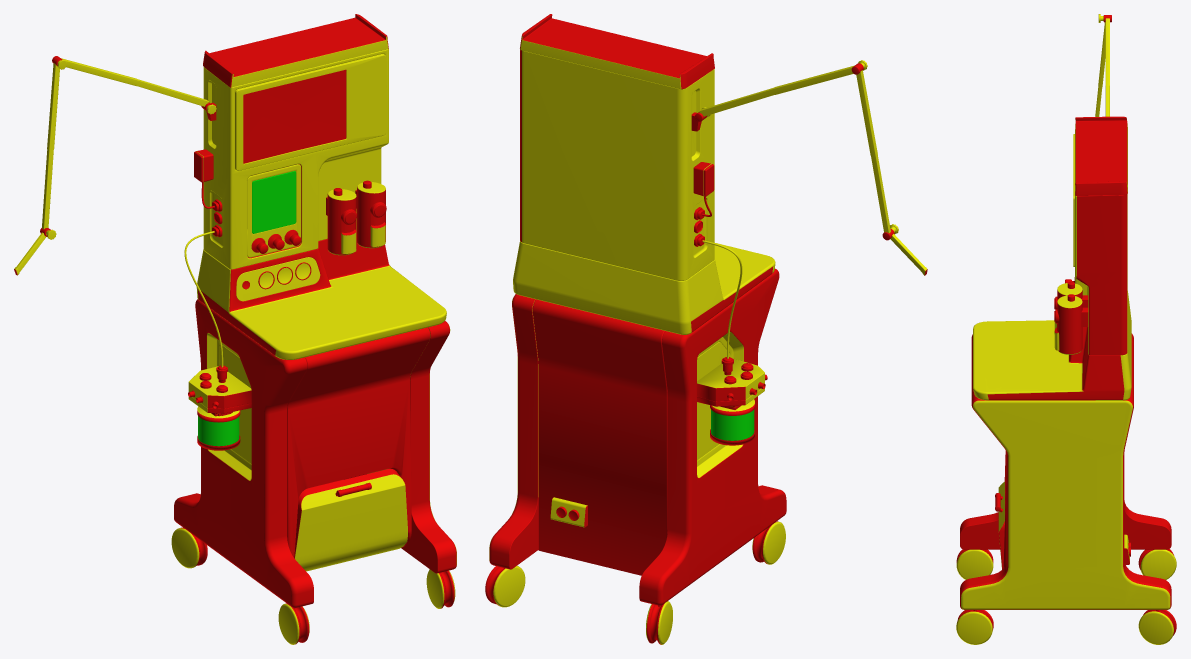
The model's file is Equipment_21.fbx.
The picture shows the model from 3 angles, left to right: view 1: azimuth 30°, elevation 25°; view 2: azimuth 150°, elevation 25°; view 3: azimuth 270°, elevation 25°; orthographic projection. The views are drawn at different scales.
Parts seen in each view (by area): view 1: polySurface1; view 2: polySurface1; view 3: polySurface1.
Part boxes in pixels (x1=…): polySurface1: x1=14, y1=14, x2=456, y2=644; polySurface1: x1=485, y1=14, x2=927, y2=644; polySurface1: x1=956, y1=14, x2=1176, y2=644.
Size of the model in its own units: 130 by 190 by 76.44.
